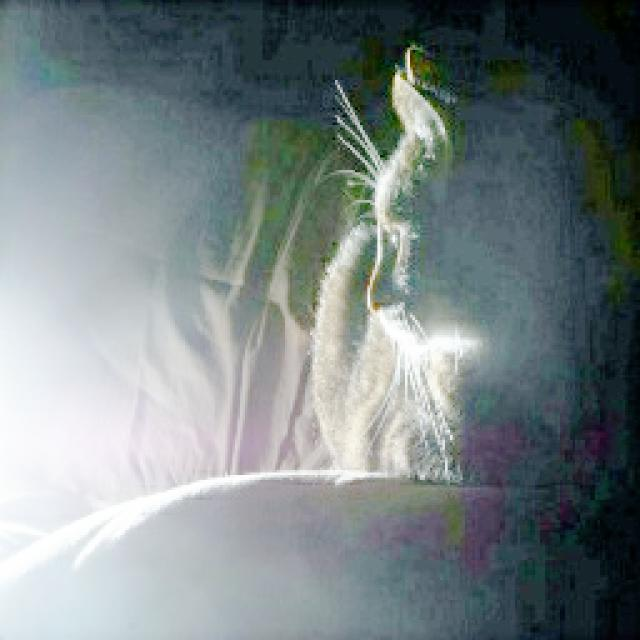cat: (304, 43, 588, 475)
